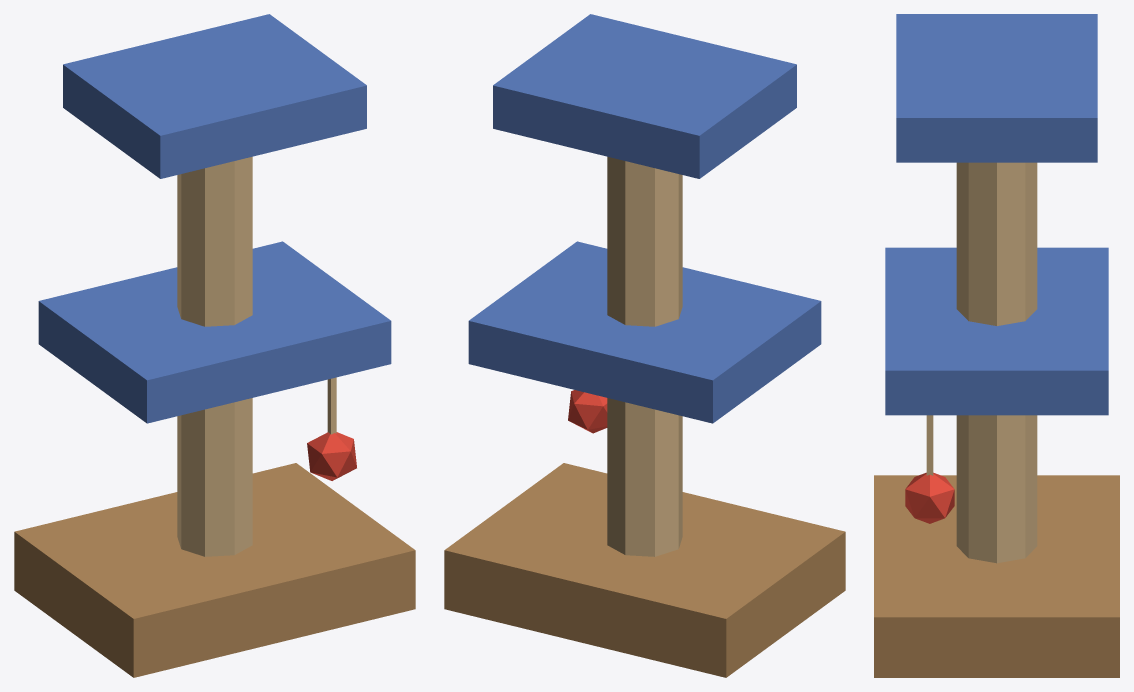
The model's file is cat_tower.glb.
3 renders of one model, left to right at view 1: azimuth 30°, elevation 25°; view 2: azimuth 150°, elevation 25°; view 3: azimuth 270°, elevation 25°, orthographic. The views are drawn at different scales.
Visible parts, largest first — view 1: cat_tower; view 2: cat_tower; view 3: cat_tower.
Part boxes in pixels (bbox=[...]): cat_tower: bbox=[14, 14, 415, 677]; cat_tower: bbox=[444, 14, 845, 677]; cat_tower: bbox=[874, 14, 1119, 677].
Size of the model in its own units: 1.5 by 2.67 by 1.1.
